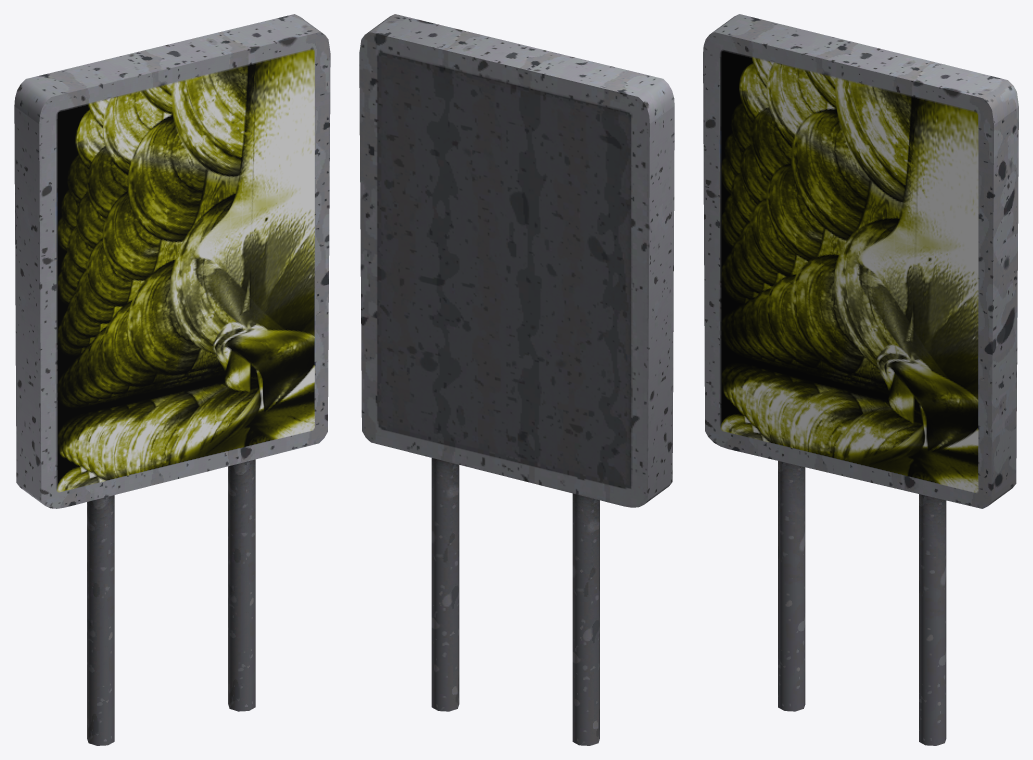
The model's file is Sign.gltf.
3 views of the same model, side by side, from view 1: azimuth 30°, elevation 25°; view 2: azimuth 150°, elevation 25°; view 3: azimuth 330°, elevation 25° (orthographic).
Visible parts, largest first — view 1: Schild; view 2: Schild; view 3: Schild.
Part boxes in pixels (left/top/right/bottom): Schild: left=14, top=14, right=330, bottom=745; Schild: left=359, top=14, right=674, bottom=745; Schild: left=703, top=14, right=1018, bottom=745.
Size of the model in its own units: 4.2 by 9.2 by 0.6211.
Materials: 1 (1 with a texture image).
